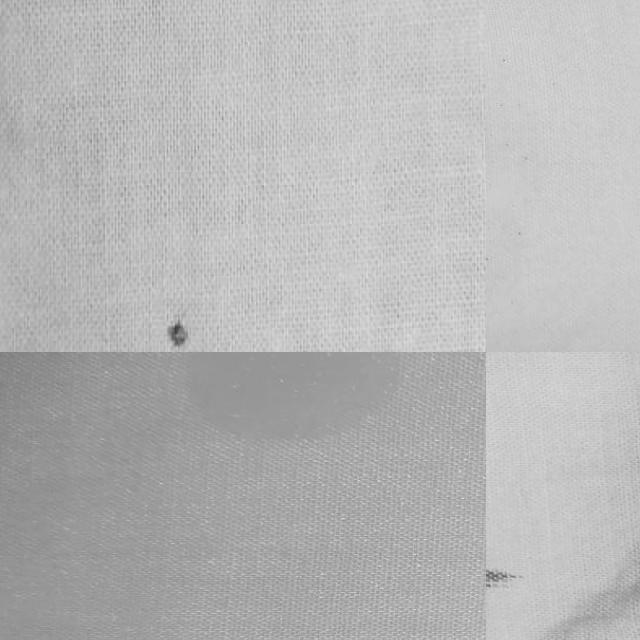Thread_other: (134, 279, 220, 352)
